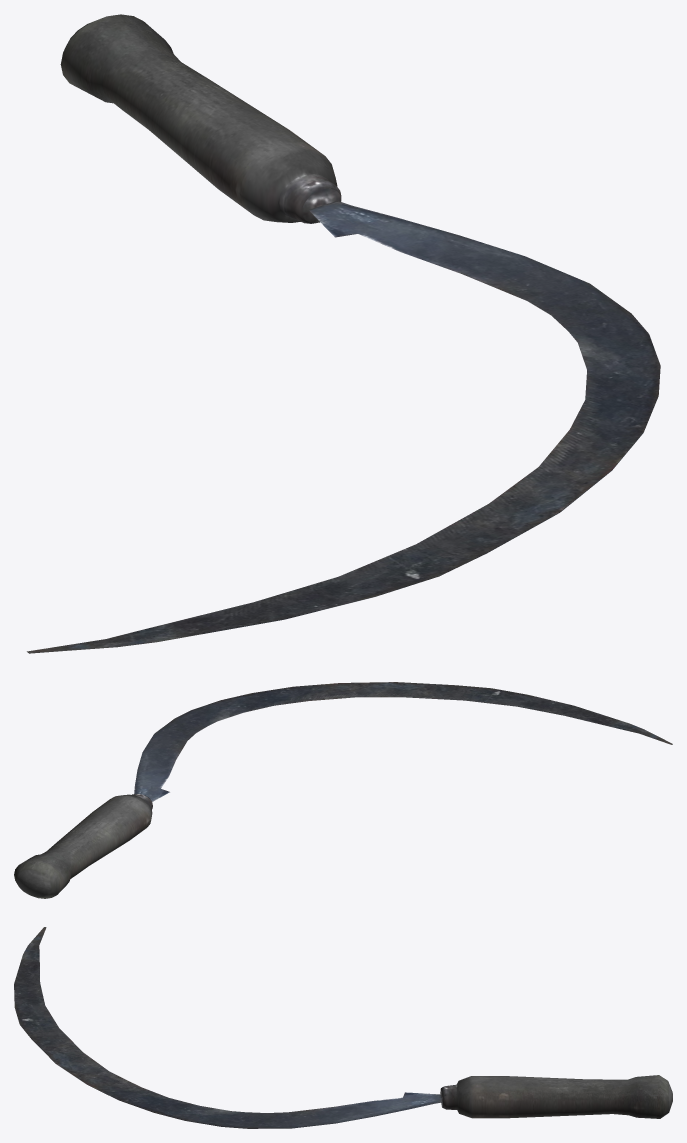
Rendered from Sickle.fbx.
3 views of the same model, one above another, from view 1: azimuth 30°, elevation 25°; view 2: azimuth 150°, elevation 25°; view 3: azimuth 270°, elevation 25° (orthographic). The views are drawn at different scales.
Parts seen in each view (by area): view 1: Cylinder; view 2: Cylinder; view 3: Cylinder.
Boxes of the visible parts, x1,y1,x2,y2 form: Cylinder: (27, 14, 660, 653); Cylinder: (14, 682, 672, 898); Cylinder: (14, 927, 672, 1128).
Bounding box in the file's own units: 5.23 × 0.45 × 7.22.
